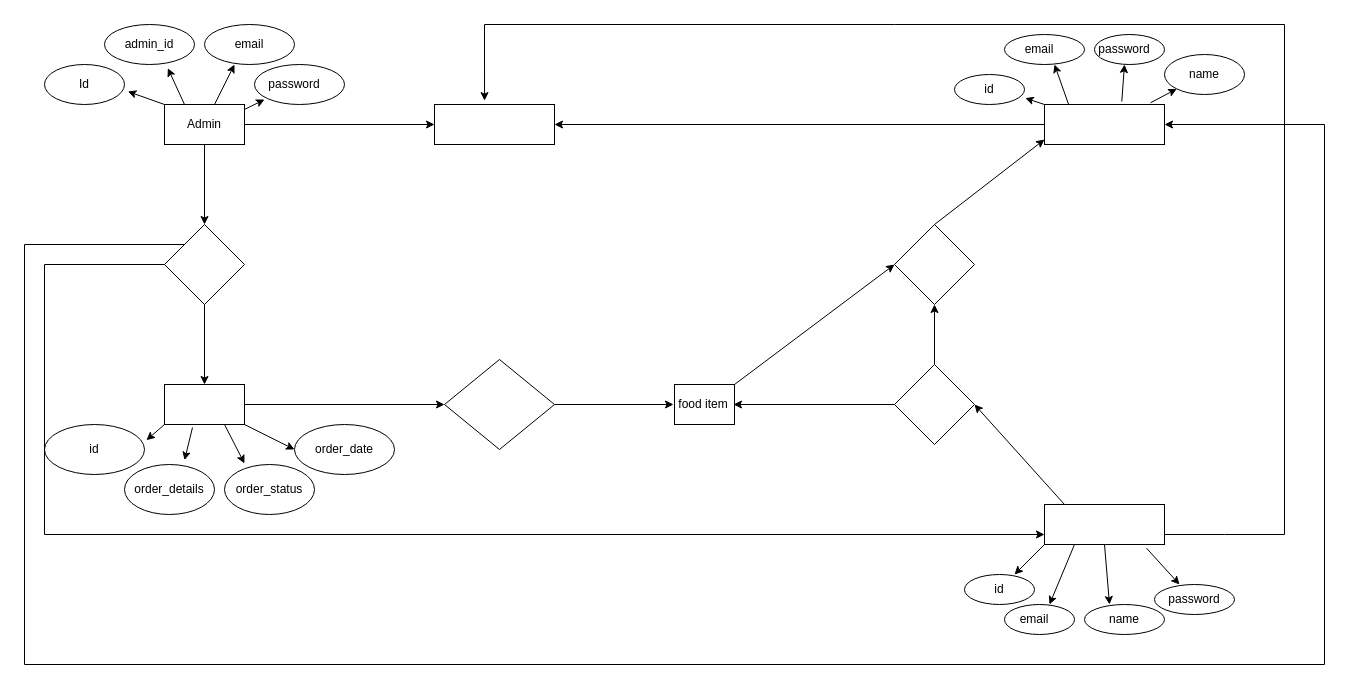
The diagram is 1350 pixels wide and 690 high, and some of its shapes have lost their labels. The shapes that lost their labels are listed below. From the top down, each one's centre as x and y in pixels, then its label:
At (494,124): "Create account".
At (1104,124): "Kitchen Staff".
At (204,264): "Manages".
At (934,264): "assigned to".
At (204,404): "Order".
At (499,404): "Contains".
At (934,404): "creates".
At (1104,524): "User".
